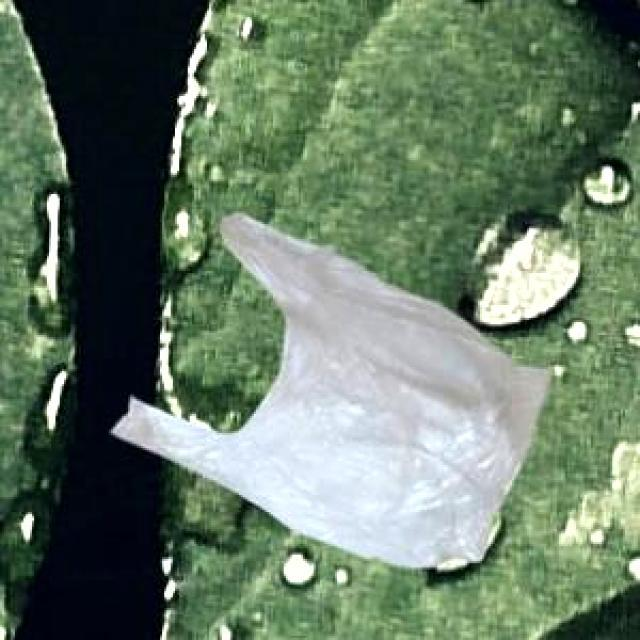Plastic_Bag: (110, 210, 548, 564)
